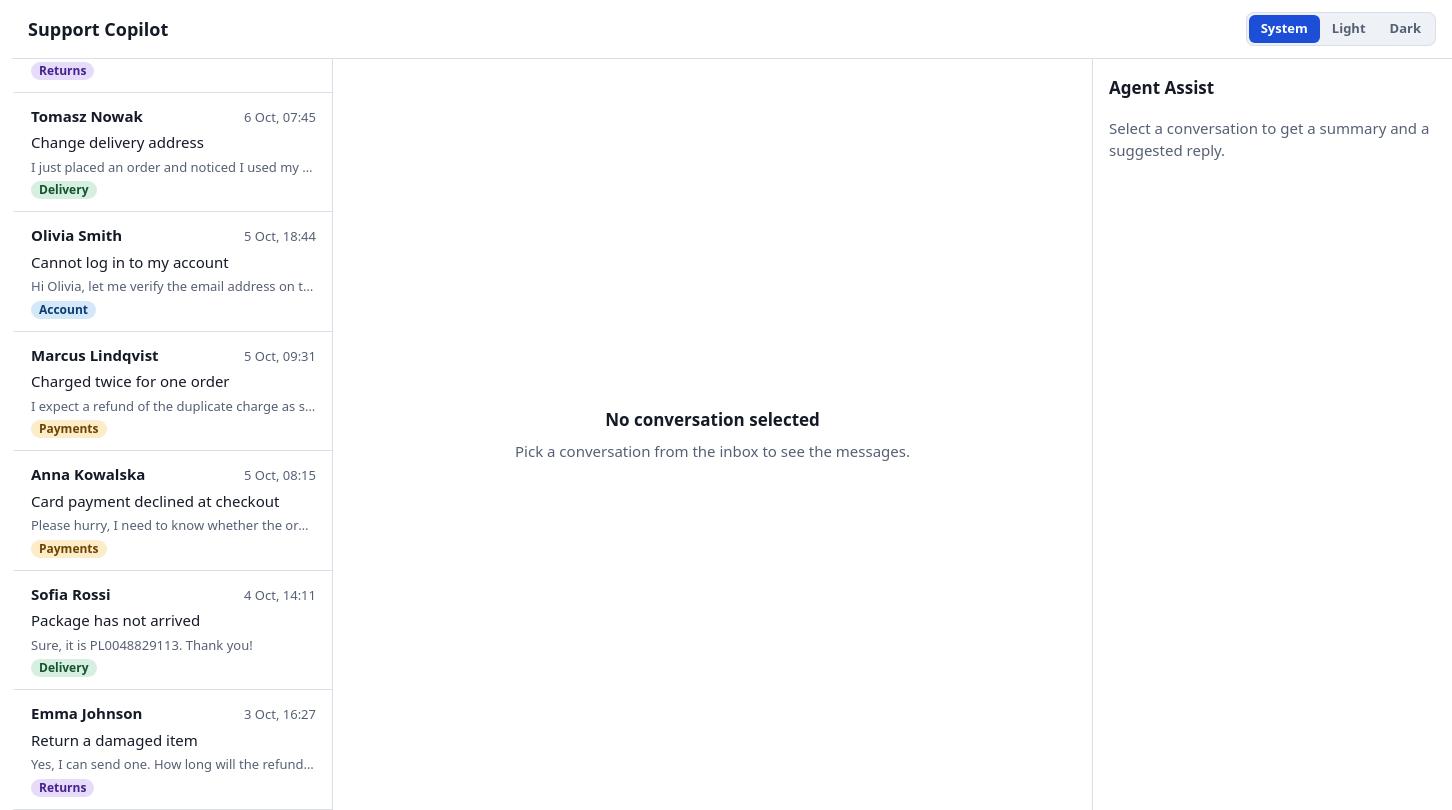
App › shows an empty state until a conversation is selected
(page scrolled)
Expected: the heading "No conversation selected" is shown, [605, 408, 820, 430]
Step 1. Click the button "Anna Kowalska" → (172, 511), box [12, 451, 332, 570]
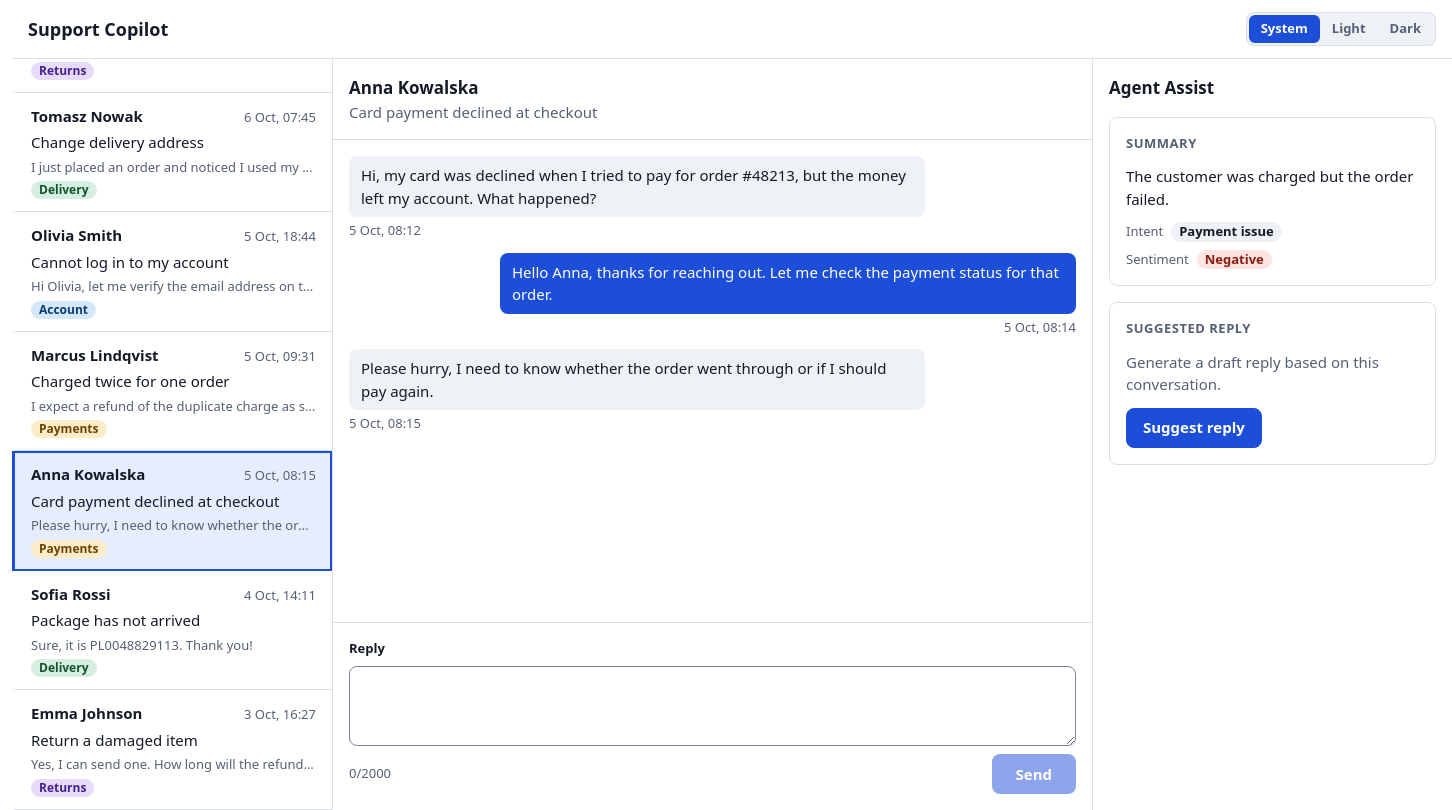
Expected: the heading "No conversation selected" is gone
